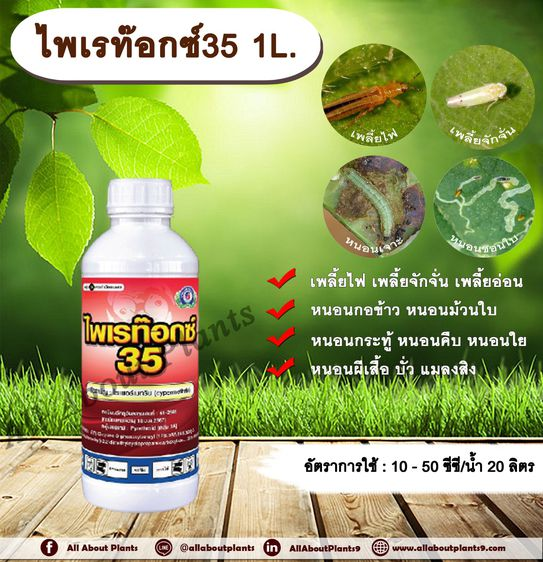Insecticide: (74, 173, 202, 518)
